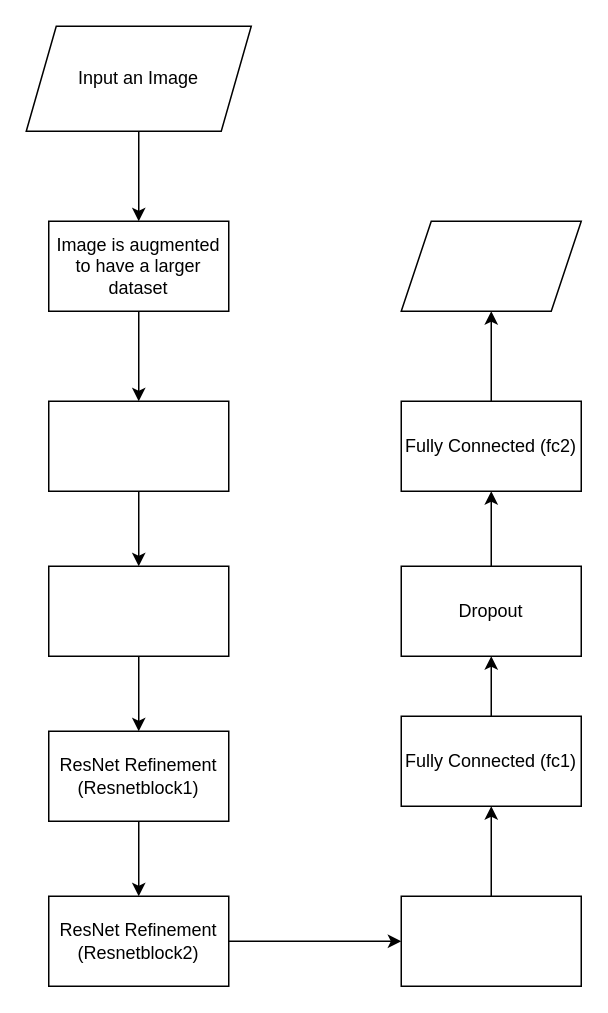
The diagram is 608 pixels wide and 1013 high, and some of its shapes have lost their labels. Each missing label, with the box of its shape:
Adaptive Average Pooling: (400, 895, 581, 986)
Image is resize to 300x300: (47, 400, 229, 491)
MobileNetV2 Feature Extractor: (47, 565, 229, 656)
Output: (400, 220, 581, 311)
